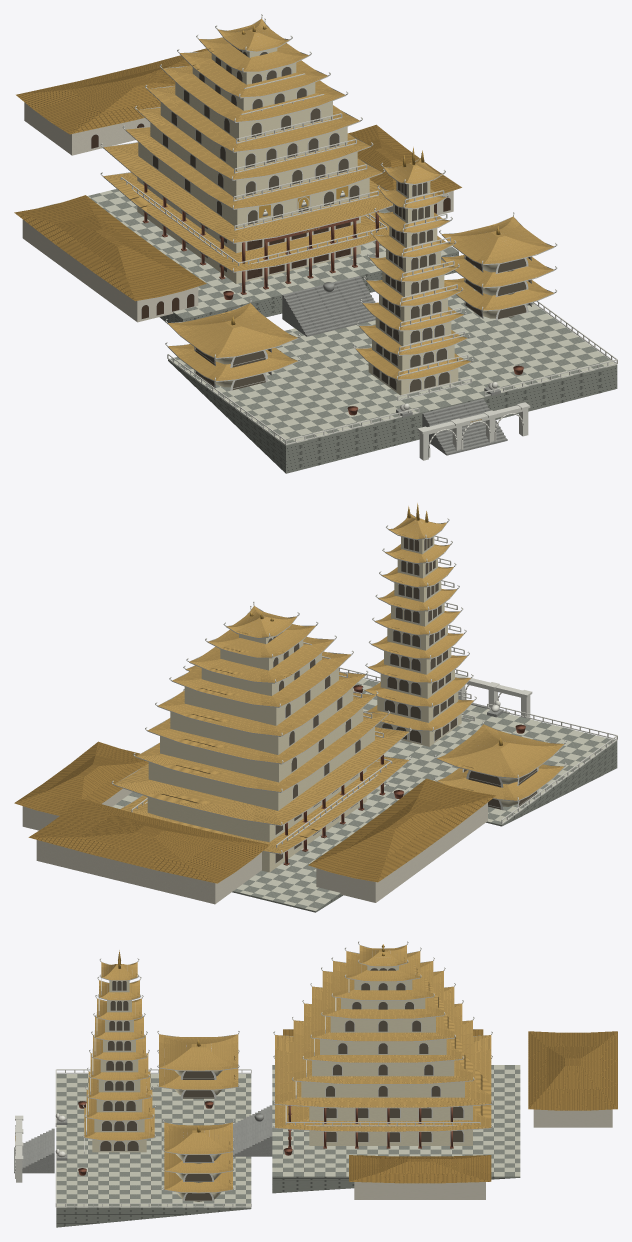
File: van-linh.glb
The picture shows the model from 3 angles, top to bottom: view 1: azimuth 30°, elevation 25°; view 2: azimuth 150°, elevation 25°; view 3: azimuth 270°, elevation 25°; orthographic projection. The views are drawn at different scales.
Visible parts, largest first — view 1: van-linh-near; view 2: van-linh-near; view 3: van-linh-near.
Boxes of the visible parts, x1,y1,x2,y2 form: van-linh-near: (14,14,617,473); van-linh-near: (14,503,617,912); van-linh-near: (14,941,617,1227).
Size of the model in its own units: 66.5 by 45.66 by 114.
Materials: 1 (1 with a texture image).
